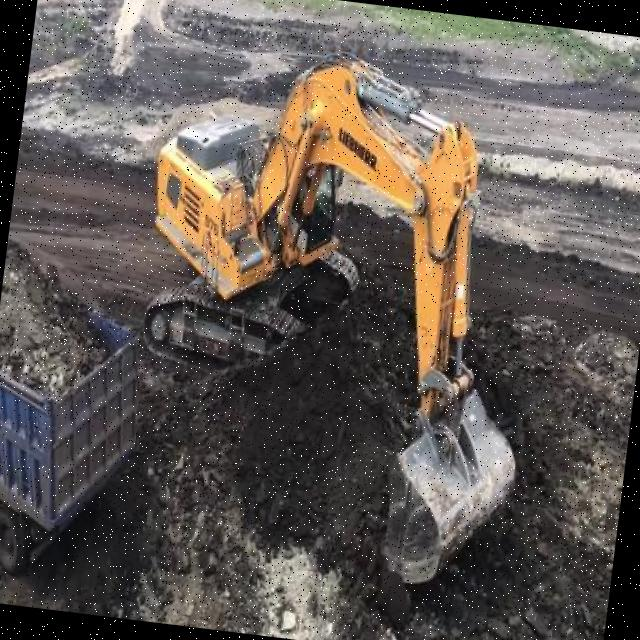Dump Truck: (0, 233, 158, 593)
Excavator: (107, 30, 564, 592)
